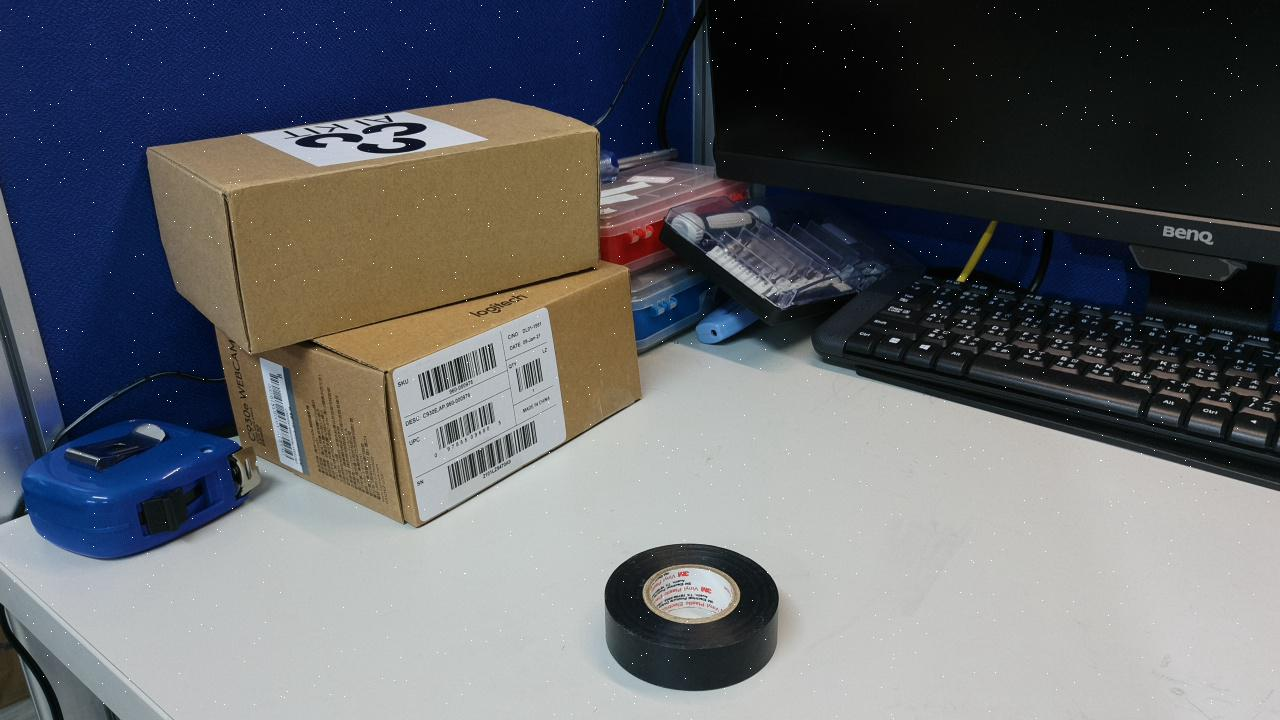columnar: (969, 142, 1100, 297)
grip: (959, 177, 1011, 274)
